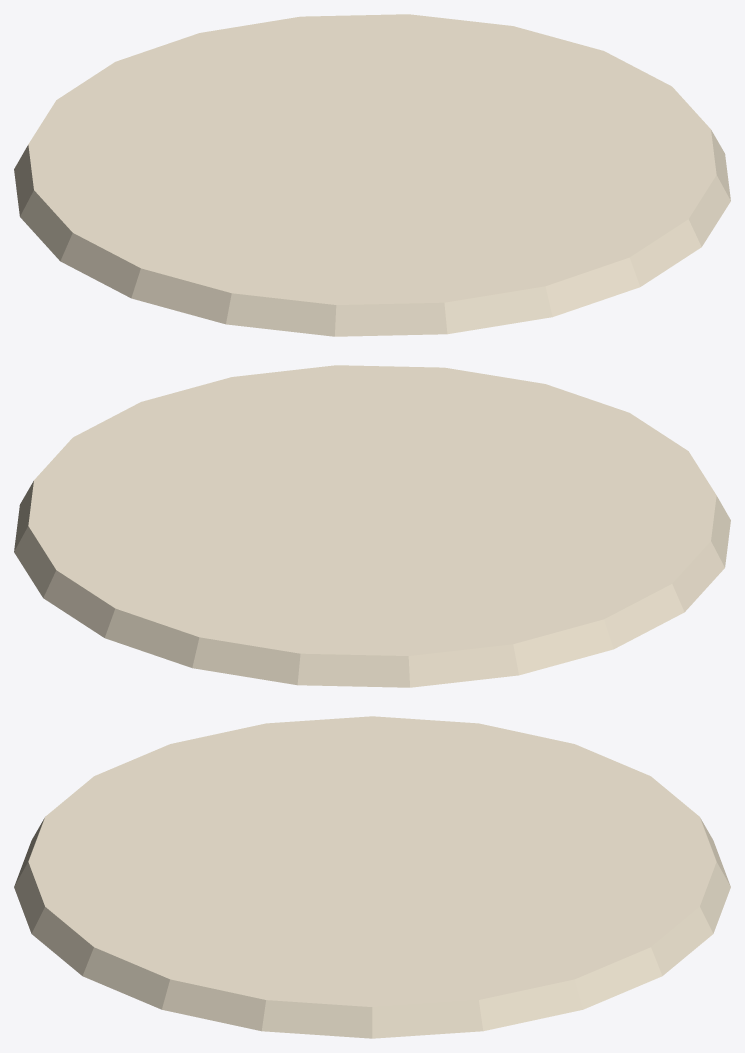
The model's file is SunnyLoop_Space_Inlay_Circle_v1.glb.
3 views of the same model, one above another, from view 1: azimuth 30°, elevation 25°; view 2: azimuth 150°, elevation 25°; view 3: azimuth 270°, elevation 25° (orthographic).
Visible parts, largest first — view 1: SunnyLoop_Space_Inlay_Circle_v1; view 2: SunnyLoop_Space_Inlay_Circle_v1; view 3: SunnyLoop_Space_Inlay_Circle_v1.
Part boxes in pixels (bbox=[...]): SunnyLoop_Space_Inlay_Circle_v1: bbox=[14, 14, 730, 336]; SunnyLoop_Space_Inlay_Circle_v1: bbox=[14, 365, 730, 687]; SunnyLoop_Space_Inlay_Circle_v1: bbox=[14, 716, 730, 1038].
Bounding box in the file's own units: 2.07 × 0.0812 × 2.07.
